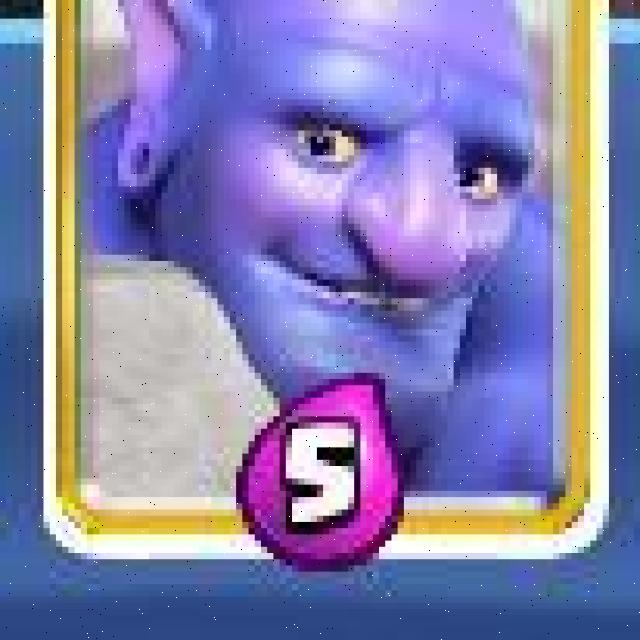Bowler: (44, 0, 617, 561)
